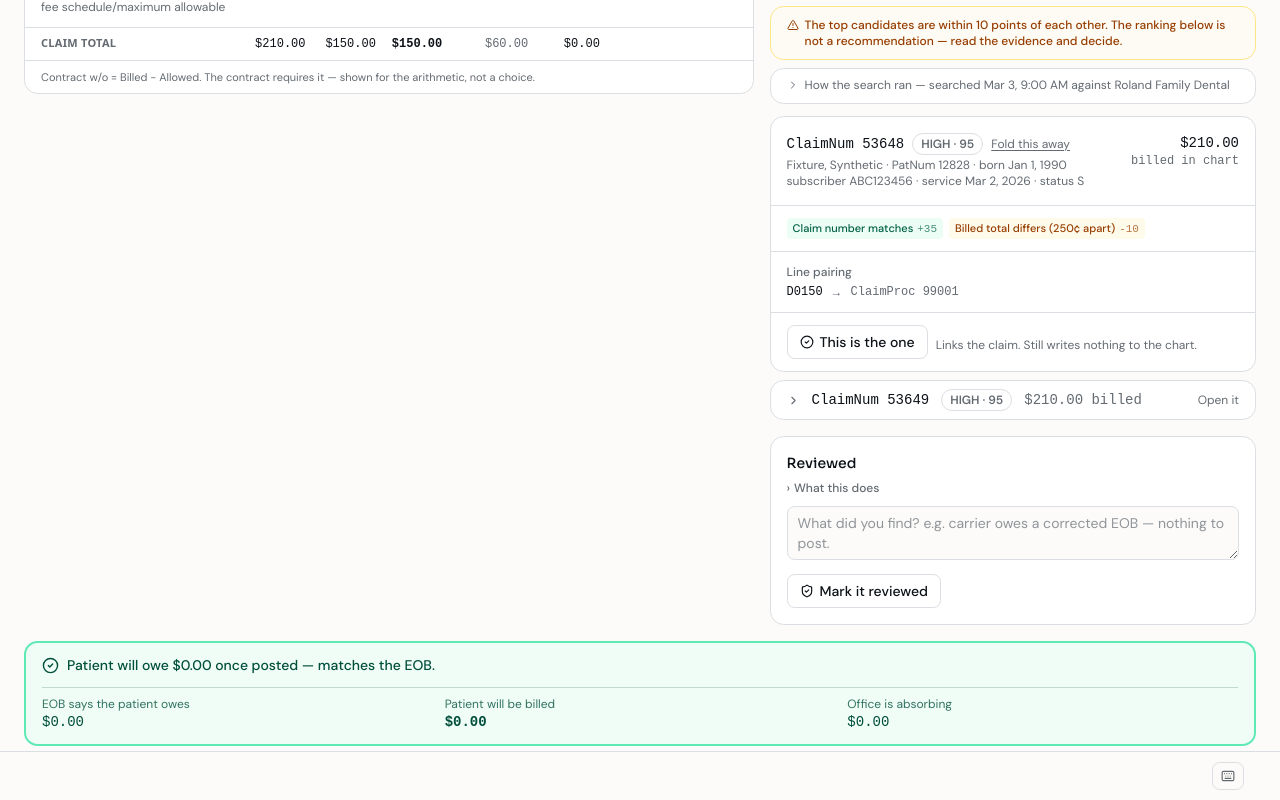
Scenario: the claim match panel › DISPLAYS ambiguity rather than resolving it
This screenshot has width=1280, height=800.
(page scrolled)
Check: the element with test id "match-ambiguous" shows "not a recommendation", box [805,16,1226,48]
Check: the element with test id "candidate-53648" is shown, box [770,116,1256,372]
Click the button with test id "candidate-row-53649". click: (1013, 400)
box: [770,380,1256,420]
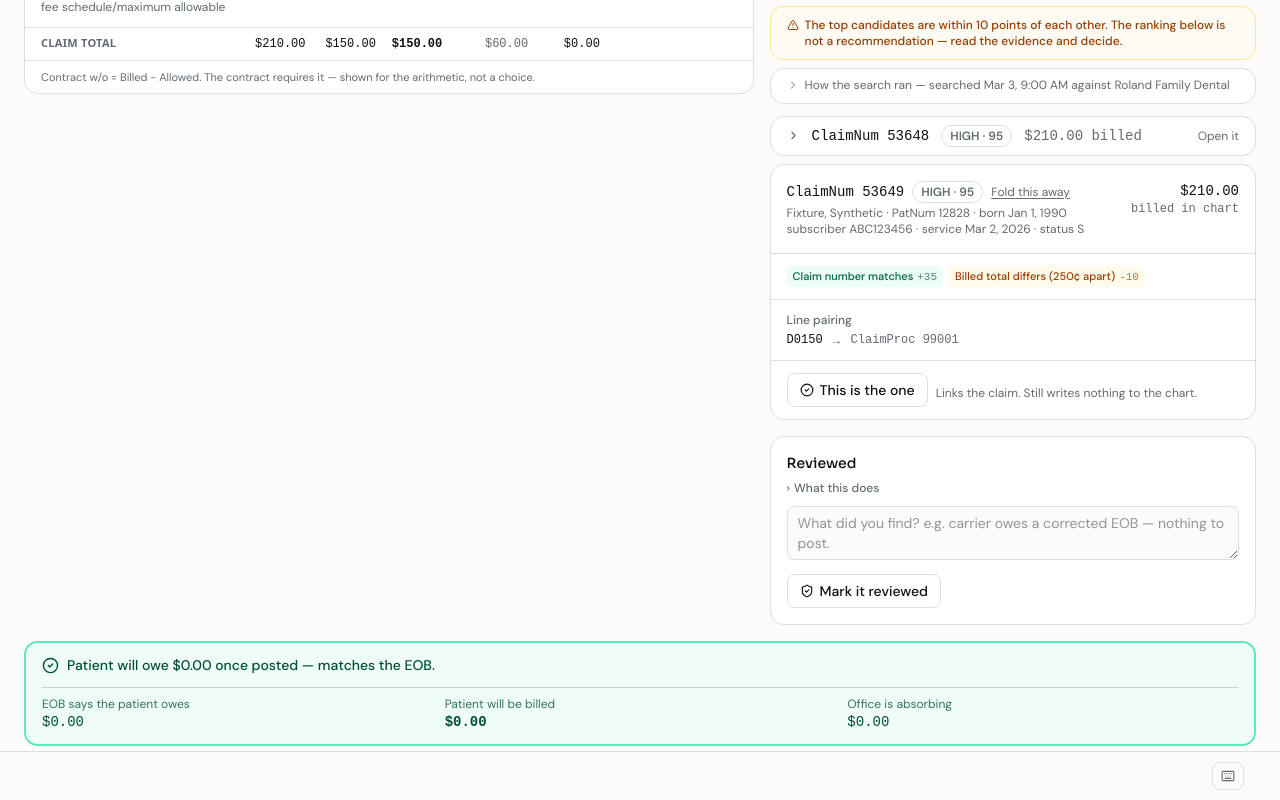
Check: the element with test id "candidate-53649" is shown, box [770,164,1256,420]
